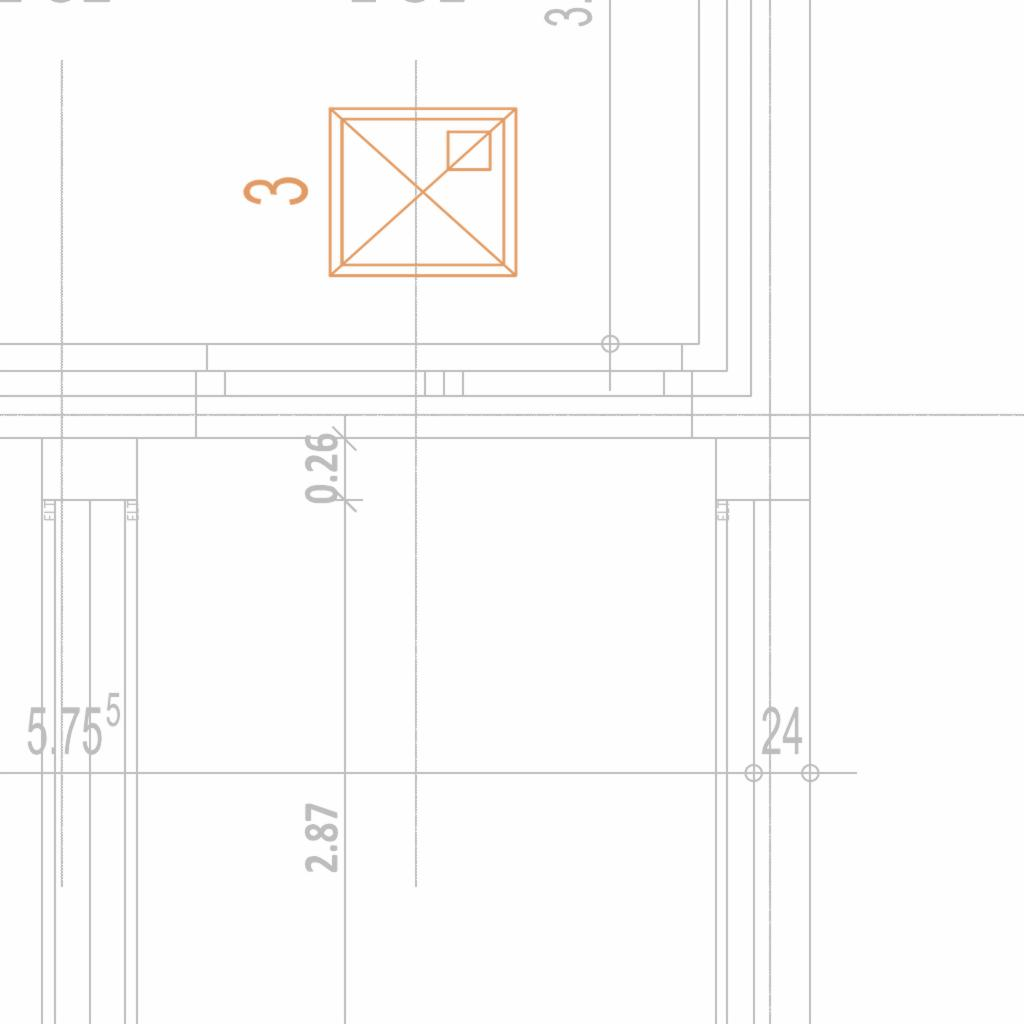Einbaudownlights_LED_Konferenzraeume: (232, 92, 532, 300)
